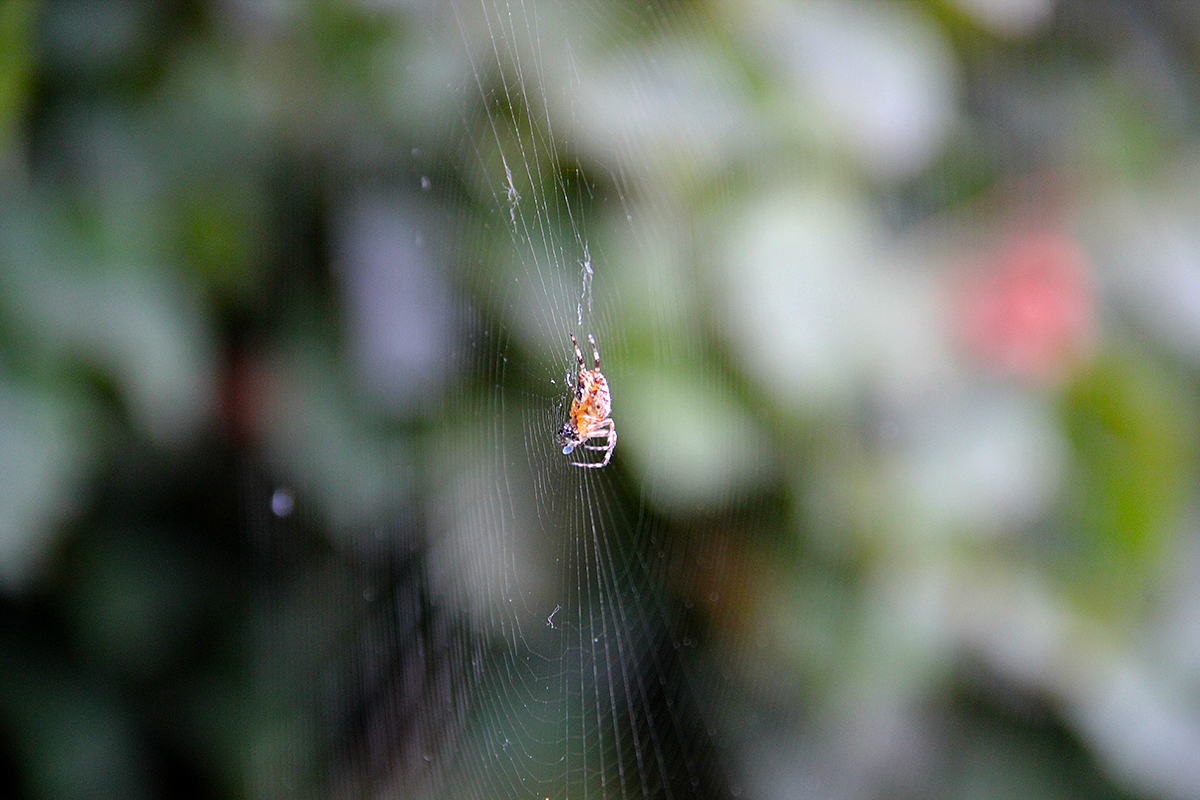spider: (537, 307, 634, 492)
